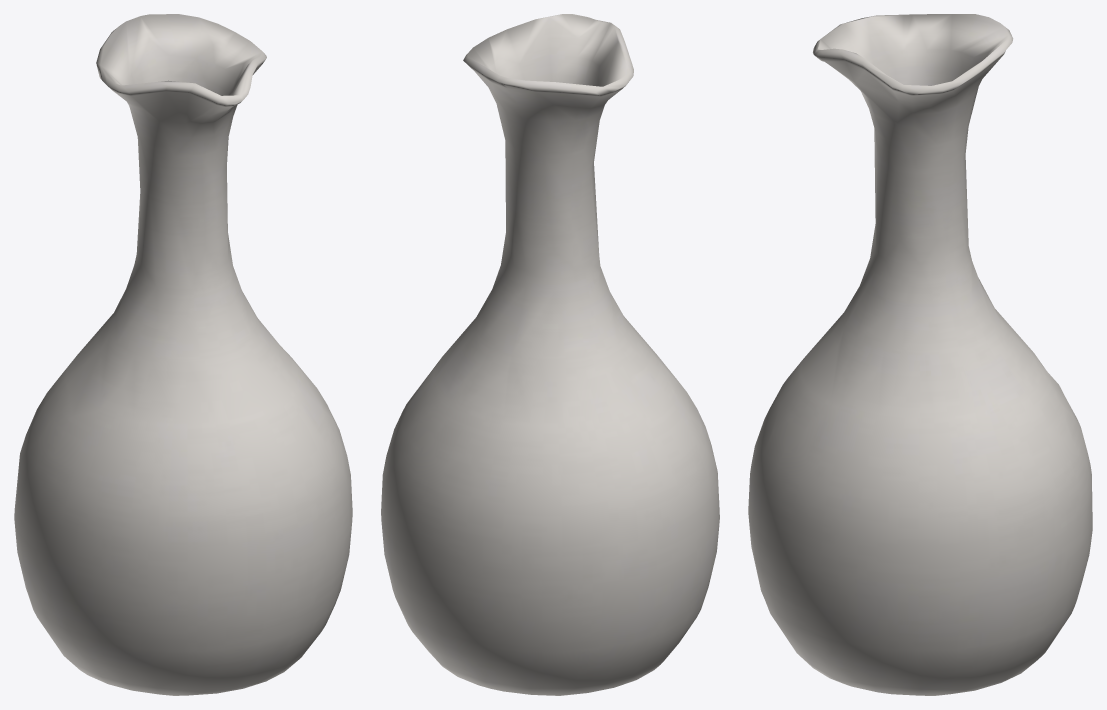
3 views of the same model, side by side, from view 1: azimuth 30°, elevation 25°; view 2: azimuth 150°, elevation 25°; view 3: azimuth 270°, elevation 25° (orthographic).
Parts seen in each view (by area): view 1: ceramic_vase_01; view 2: ceramic_vase_01; view 3: ceramic_vase_01.
Boxes of the visible parts, x1,y1,x2,y2 form: ceramic_vase_01: (14, 14, 352, 695); ceramic_vase_01: (381, 14, 719, 695); ceramic_vase_01: (748, 14, 1092, 695).
Bounding box in the file's own units: 0.2036 × 0.4003 × 0.2031.
Materials: 1 (1 with a texture image).
